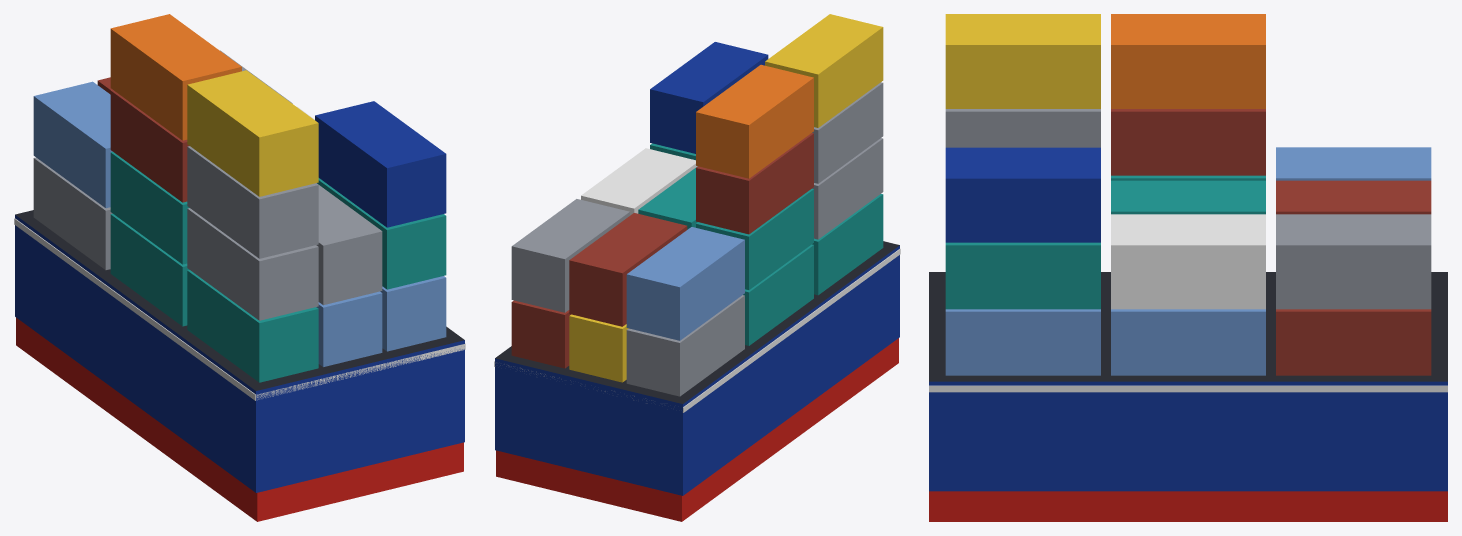
File: buque_carga_3.obj
3 renders of one model, left to right at view 1: azimuth 30°, elevation 25°; view 2: azimuth 150°, elevation 25°; view 3: azimuth 270°, elevation 25°, orthographic. The views are drawn at different scales.
Visible parts, largest first — view 1: buque_carga_3; view 2: buque_carga_3; view 3: buque_carga_3.
Part boxes in pixels (<box>): buque_carga_3: <box>14,14,465,521</box>; buque_carga_3: <box>494,14,900,521</box>; buque_carga_3: <box>929,14,1447,521</box>.
Size of the model in its own units: 9.06 by 15.5 by 18.
